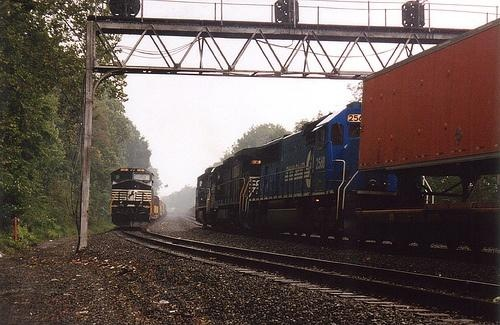train: (193, 21, 500, 258), (109, 167, 166, 230)
